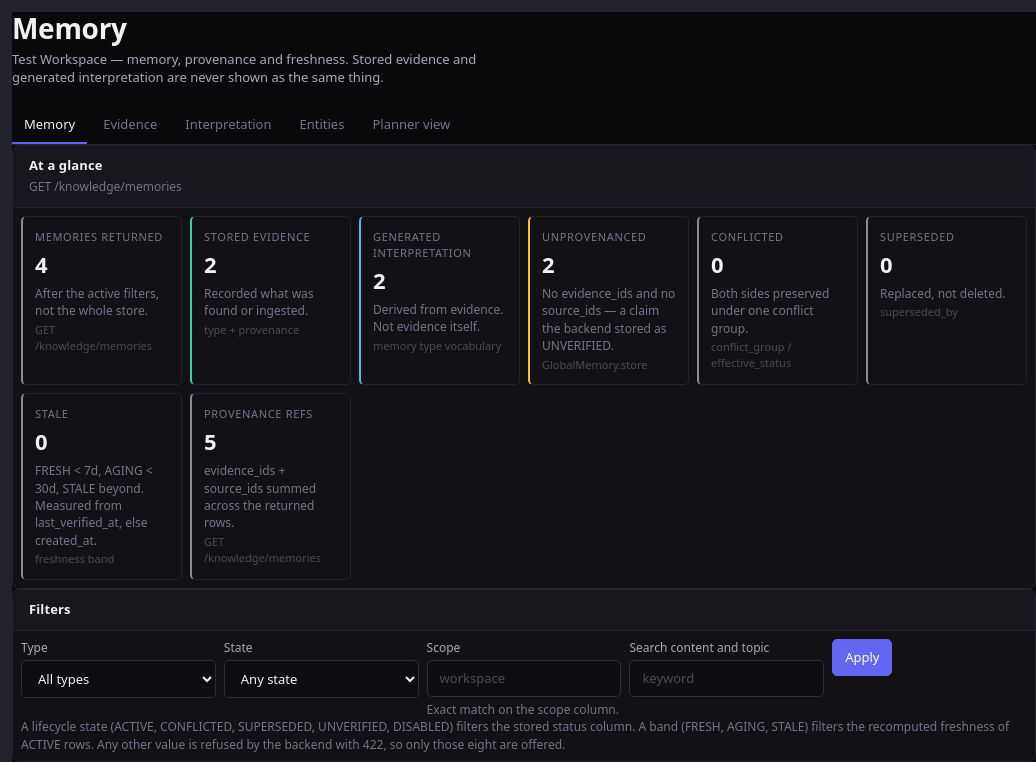
it: Memory renders when data arrives › shows the source connectors and their honest health
Click the tab "Evidence" at (130, 126), box top-left (91, 107), bottom-right (169, 144)
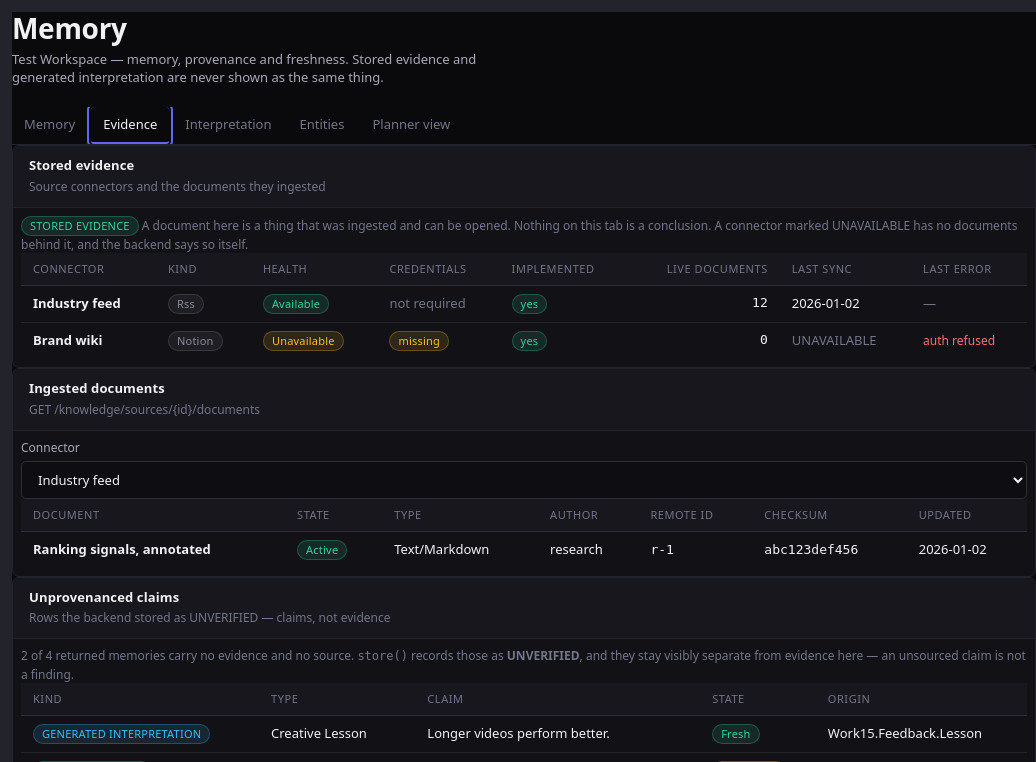
Expected: the text titled "no credentials configured" reads "Unavailable", top-left (272, 333), bottom-right (335, 348)
